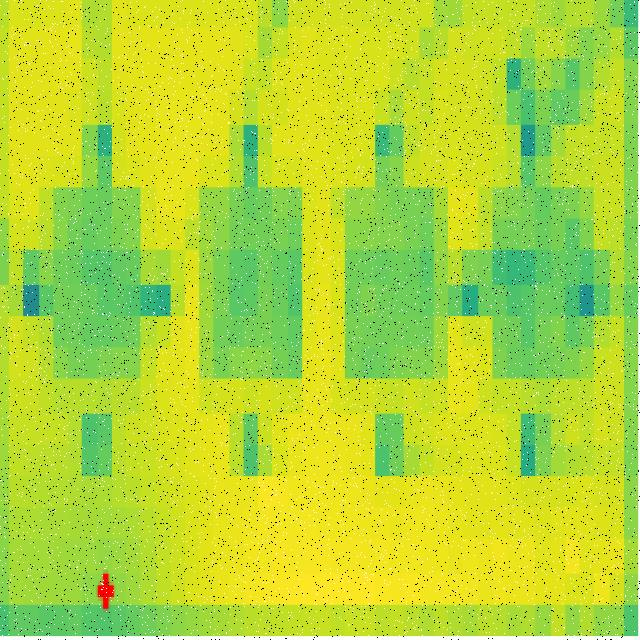Concrete: (494, 188, 594, 382)
Glass: (344, 186, 449, 381)
Metal: (53, 186, 142, 383)
Wood: (199, 186, 303, 384)
